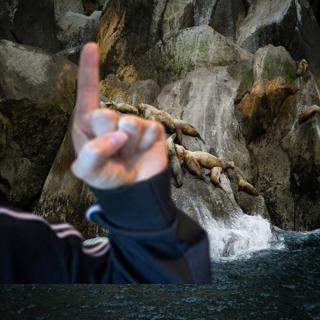IRRITATED: (63, 39, 169, 193)
